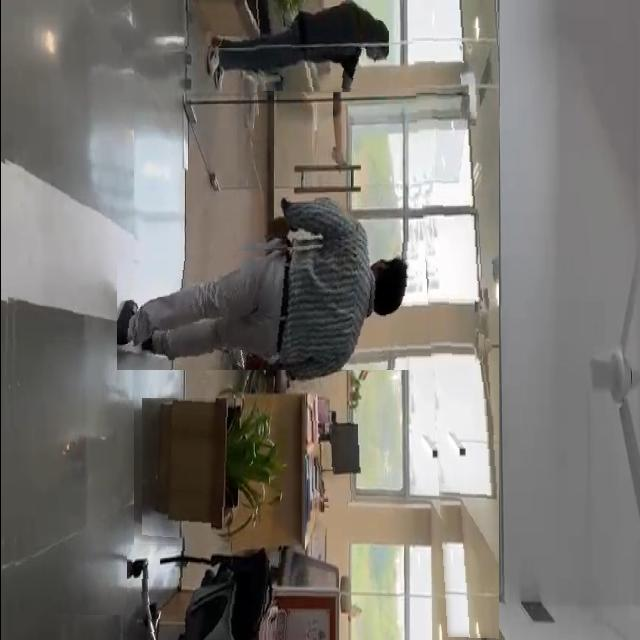floor: (0, 3, 133, 616)
furniture: (141, 398, 279, 545), (126, 542, 303, 640), (308, 411, 367, 503), (174, 0, 273, 46)
moving_object: (116, 236, 425, 370), (250, 6, 388, 93)
wall: (409, 3, 498, 640)
